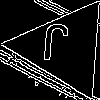J: (39, 23, 71, 71)
